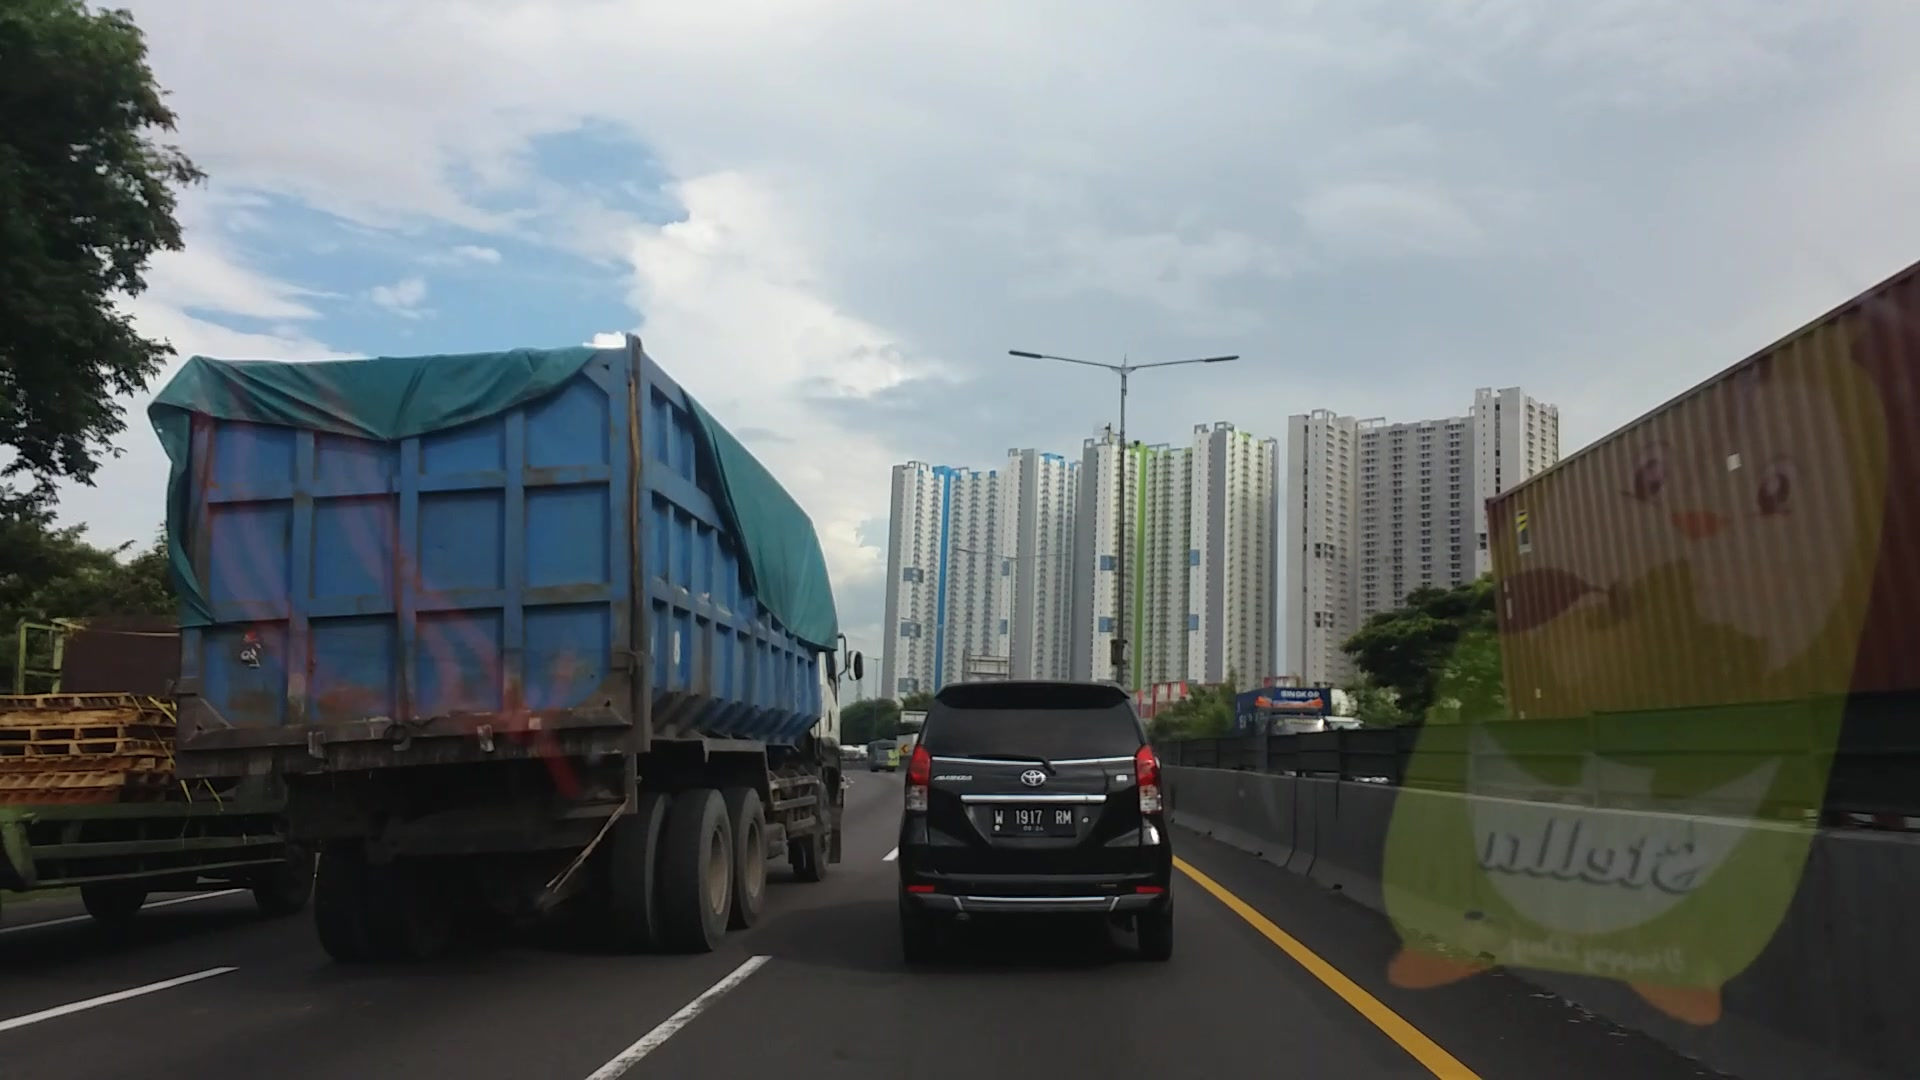plate_positive: (992, 806, 1076, 833)
